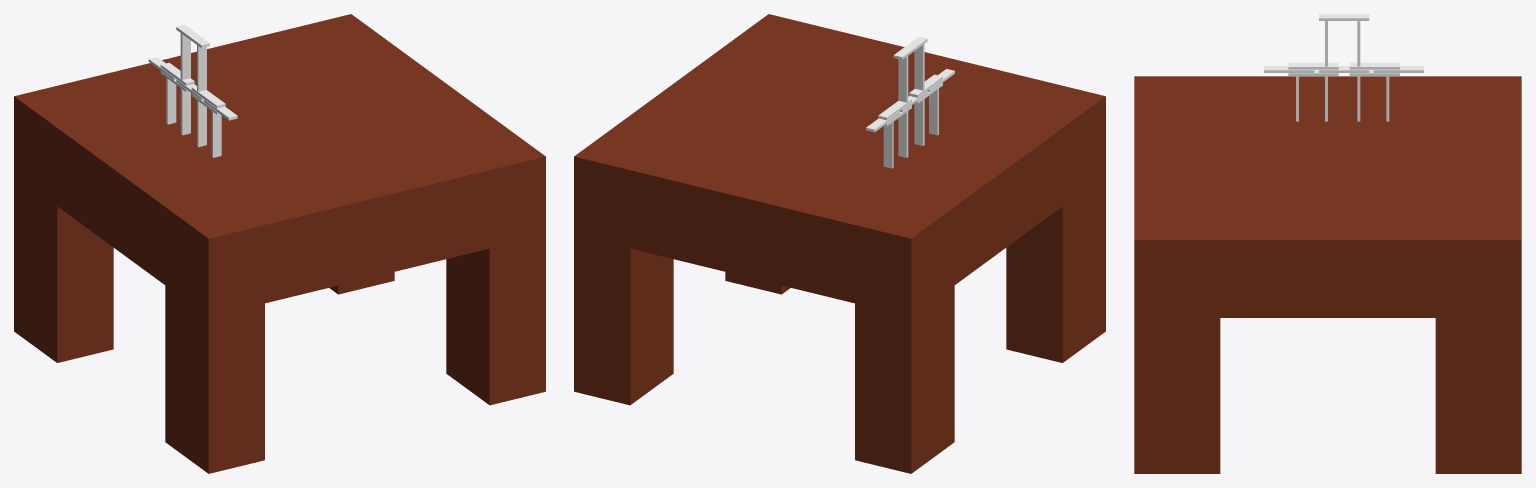
File: keva_house_gate.dae
The picture shows the model from 3 angles, left to right: view 1: azimuth 30°, elevation 25°; view 2: azimuth 150°, elevation 25°; view 3: azimuth 270°, elevation 25°; orthographic projection.
Visible parts, largest first — view 1: base (×5); view 2: base (×5); view 3: base (×3).
Boxes of the visible parts, x1,y1,x2,y2 form: base (×5): (14, 14, 545, 473); base (×5): (574, 14, 1105, 473); base (×3): (1134, 76, 1521, 473).
Size of the model in its own units: 0.9 by 0.9 by 0.8666.
